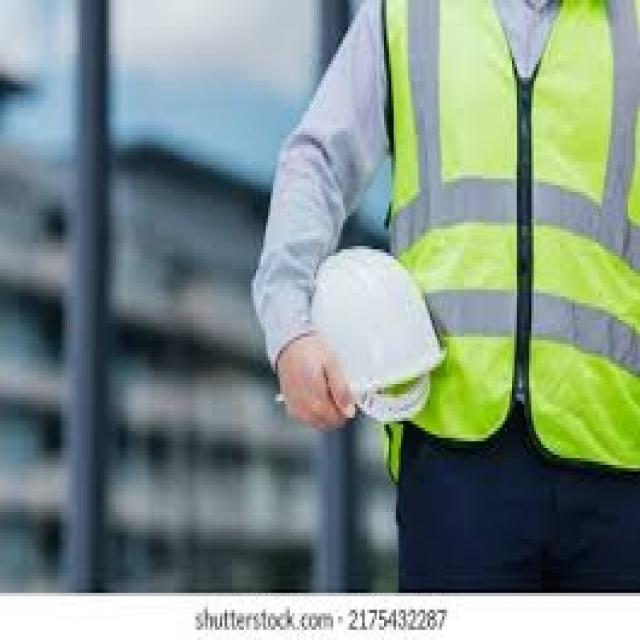Reflective-Jacket: (364, 3, 640, 464)
Safety-Helmet: (303, 239, 453, 430)
